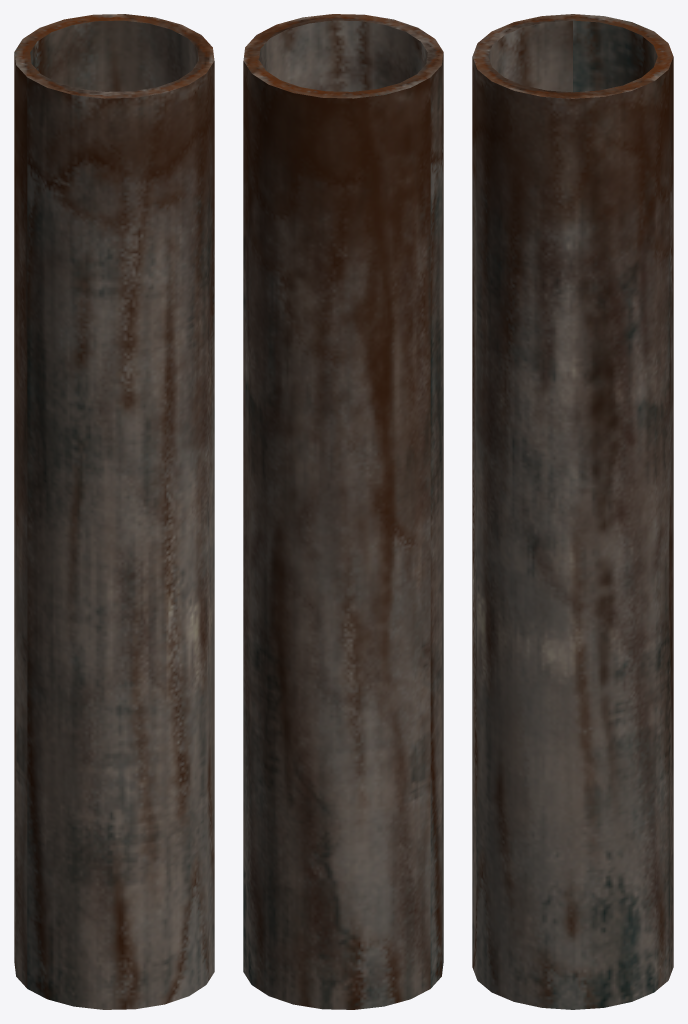
File: straight_pipe.fbx
3 views of the same model, side by side, from view 1: azimuth 30°, elevation 25°; view 2: azimuth 150°, elevation 25°; view 3: azimuth 270°, elevation 25° (orthographic).
Visible parts, largest first — view 1: pPipe1; view 2: pPipe1; view 3: pPipe1.
Part boxes in pixels (left/top/right/bottom): pPipe1: left=14, top=14, right=214, bottom=1009; pPipe1: left=243, top=14, right=443, bottom=1009; pPipe1: left=472, top=14, right=673, bottom=1009.
Bounding box in the file's own units: 300 × 1500 × 300.
